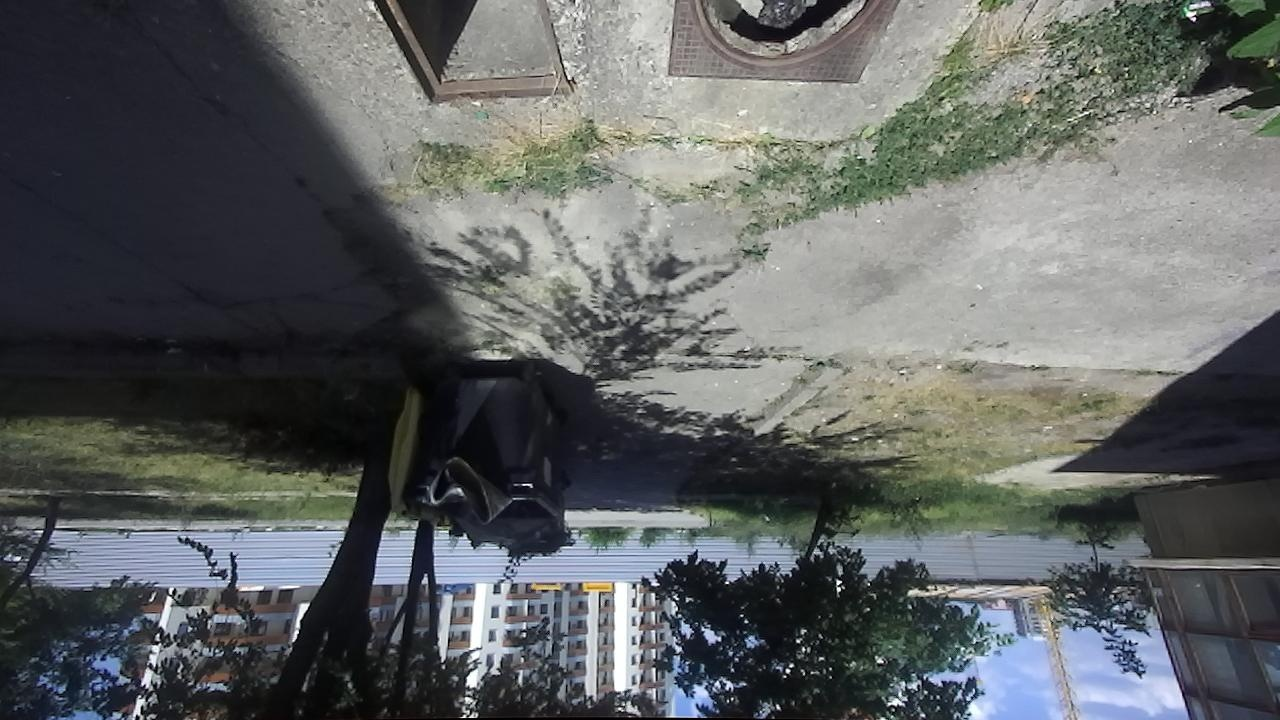drain: (375, 0, 574, 107), (685, 0, 893, 68)
